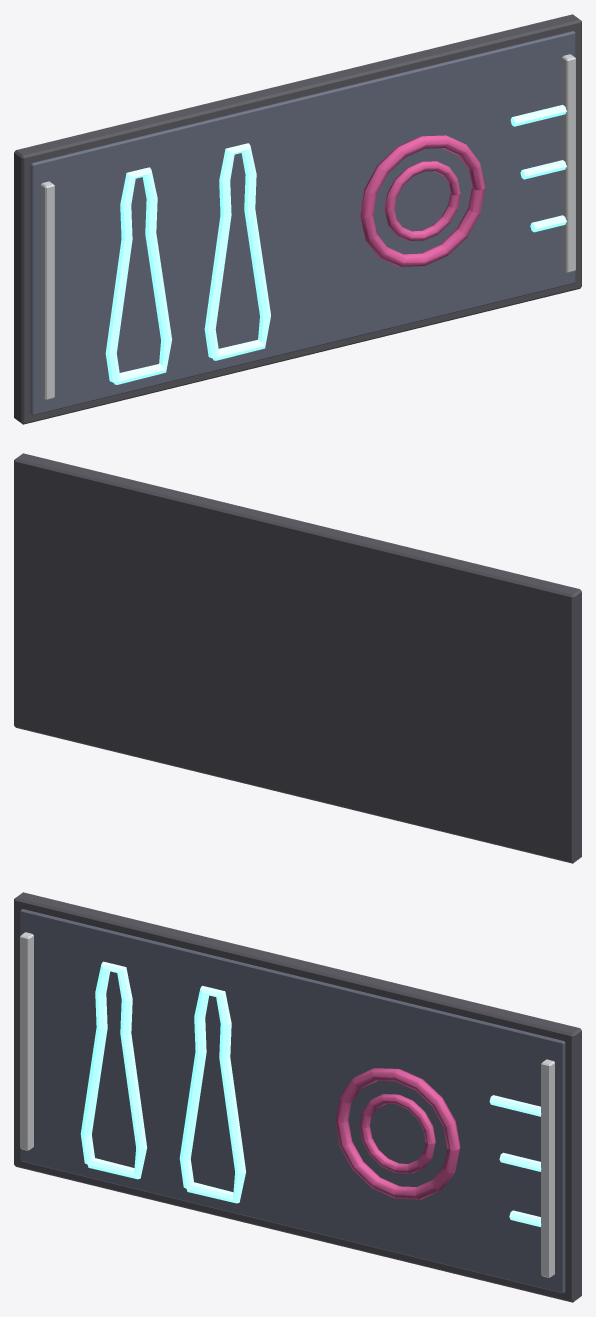
Rendered from neon-sign.glb.
3 views of the same model, one above another, from view 1: azimuth 30°, elevation 25°; view 2: azimuth 150°, elevation 25°; view 3: azimuth 330°, elevation 25° (orthographic).
Parts seen in each view (by area): view 1: neon-wall-sign; view 2: neon-wall-sign; view 3: neon-wall-sign.
Boxes of the visible parts, x1=… form: neon-wall-sign: x1=14, y1=14, x2=581, y2=424; neon-wall-sign: x1=14, y1=453, x2=581, y2=863; neon-wall-sign: x1=14, y1=892, x2=581, y2=1302.
Size of the model in its own units: 1.7 by 0.7799 by 0.108.
